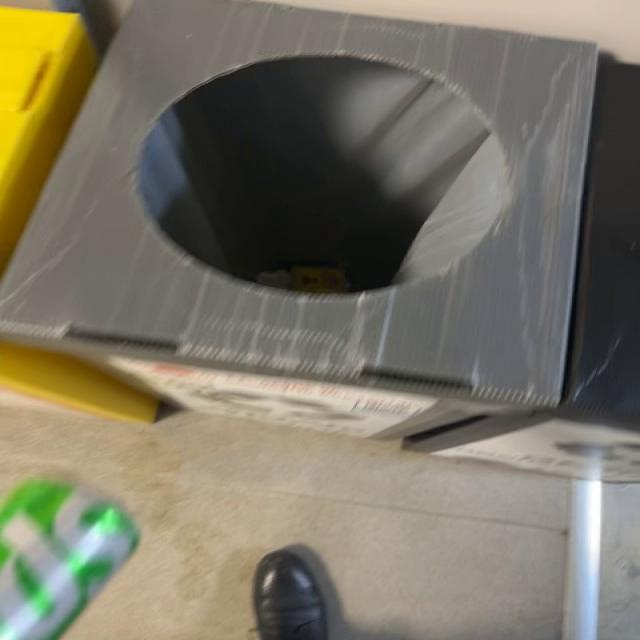bin: (3, 0, 597, 408)
metal: (1, 480, 139, 640)
